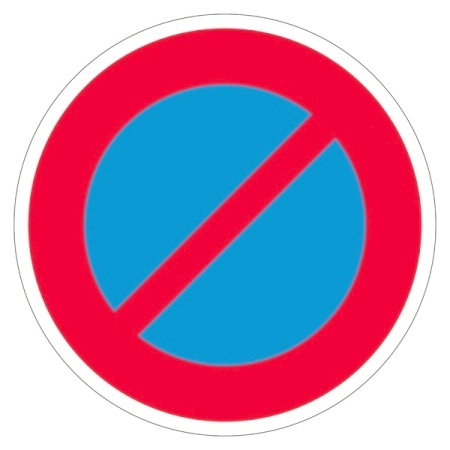Prohibition_sign: (3, 6, 450, 446)
